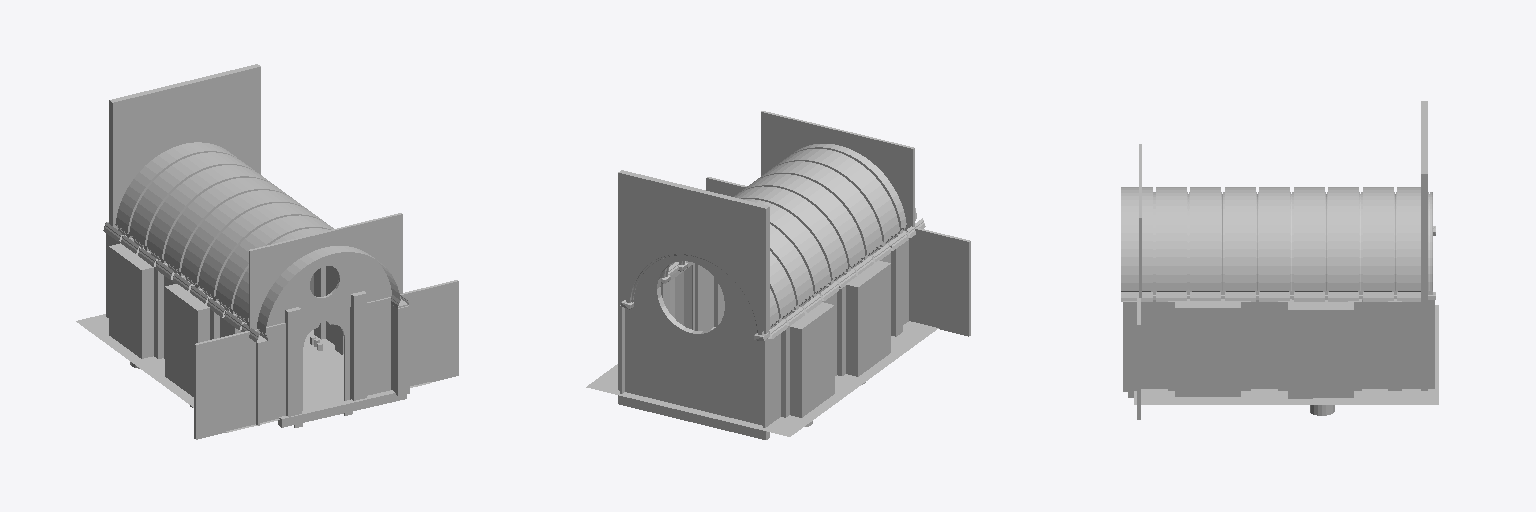
The model's file is happyRoom_b.obj.
3 views of the same model, side by side, from view 1: azimuth 30°, elevation 25°; view 2: azimuth 150°, elevation 25°; view 3: azimuth 270°, elevation 25° (orthographic).
Visible parts, largest first — view 1: collapsed_collider, bordeCygnusFloor, centralCygnusFloor_keep_collider; view 2: collapsed_collider, bordeCygnusFloor; view 3: collapsed_collider, bordeCygnusFloor.
Boxes of the visible parts, box(x1,y1,x2,y2) form: collapsed_collider: box(103, 64, 458, 439); bordeCygnusFloor: box(76, 314, 431, 432); centralCygnusFloor_keep_collider: box(278, 340, 343, 419); collapsed_collider: box(618, 111, 970, 439); bordeCygnusFloor: box(586, 321, 938, 436); collapsed_collider: box(1121, 101, 1435, 419); bordeCygnusFloor: box(1134, 305, 1438, 404).
Size of the model in its own units: 33.55 by 29.13 by 35.08.